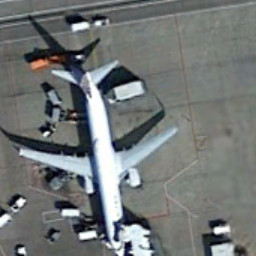Airplane: (12, 60, 190, 251)
